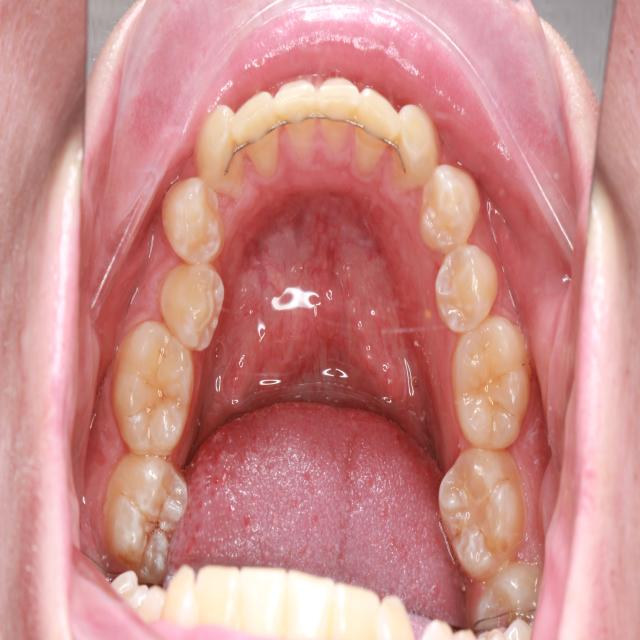tooth: (433, 440, 536, 581), (446, 312, 537, 462), (99, 448, 196, 587), (112, 319, 202, 464), (157, 253, 233, 362), (430, 238, 510, 338), (157, 171, 233, 268), (420, 153, 484, 261), (271, 58, 327, 181), (455, 556, 545, 629), (190, 97, 253, 201), (350, 75, 407, 181), (229, 90, 292, 185), (393, 92, 447, 193), (317, 68, 366, 170)
